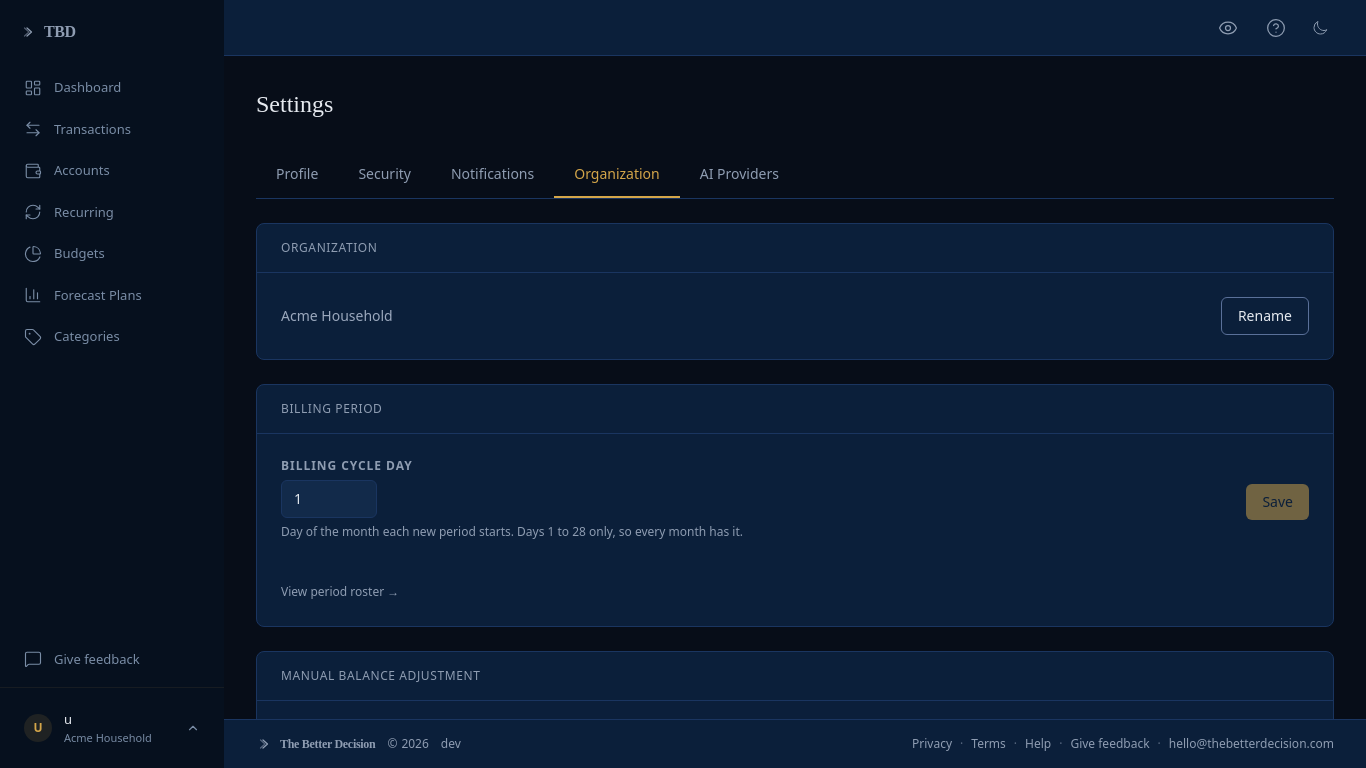
it: OrganizationSettingsPage — rename › renames org successfully and refreshes user
Open the edit form.
Click the button "Rename": (1265, 316) [1221,297,1309,335]
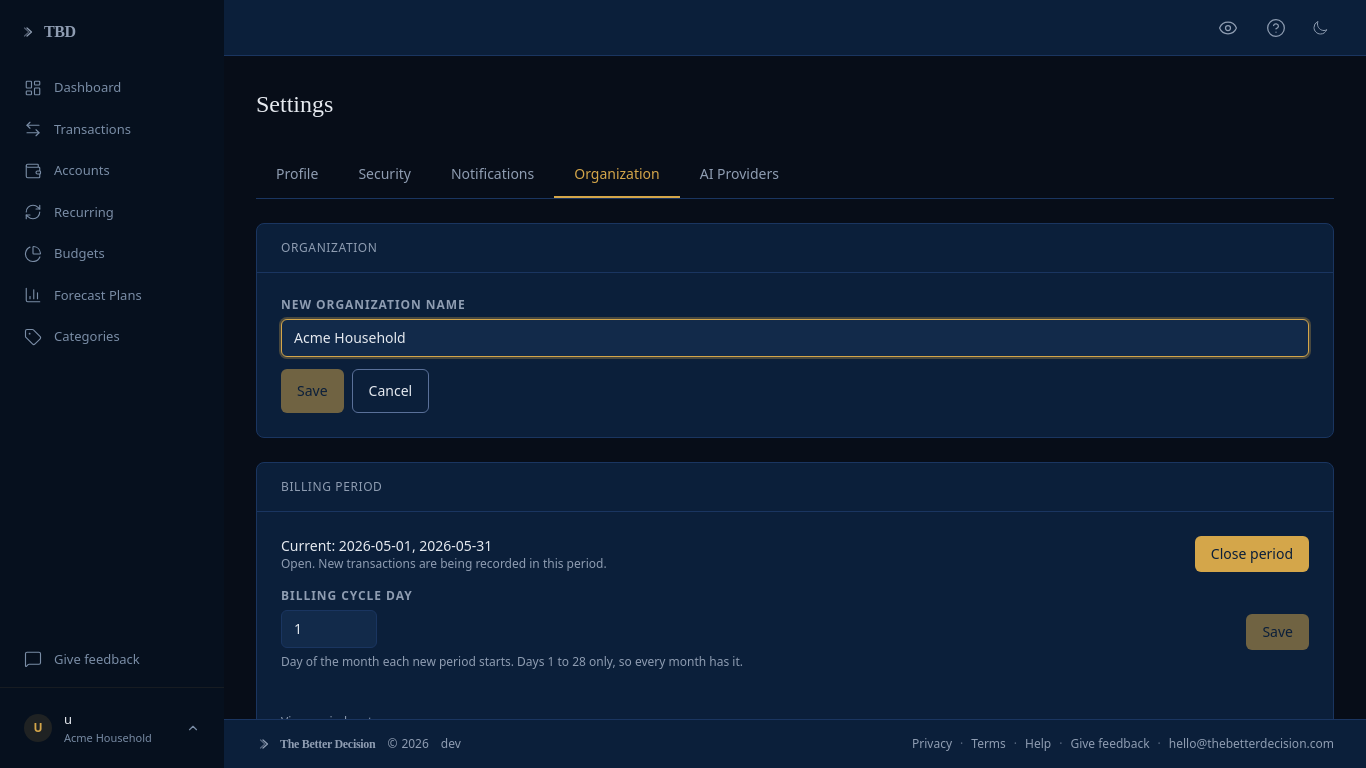
expect the field labelled "New organization name" holds "Acme Household": met
Type a new name and submit.
Replace the text in the field labelled "New organization name" with "Acme Inc": (795, 338) [281,319,1309,357]
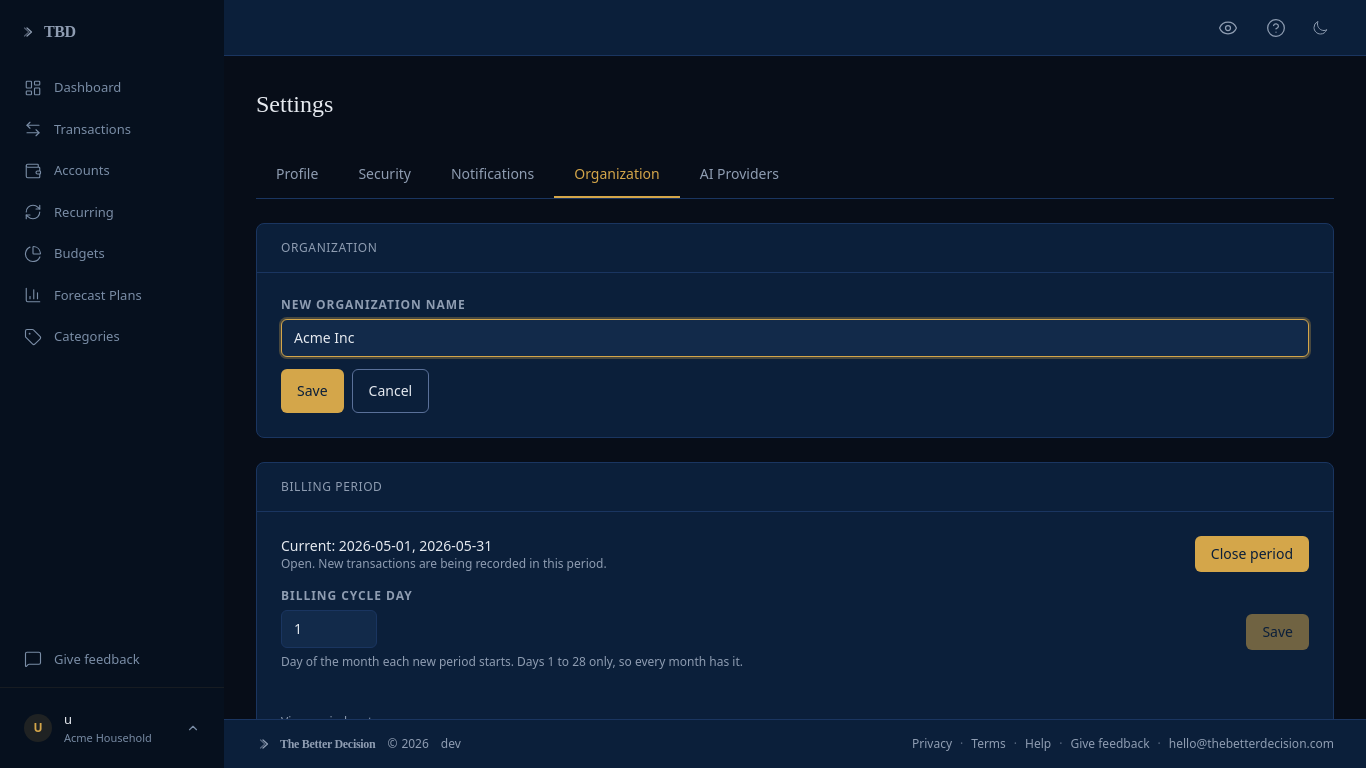
Click the button with aria-label "save organization name": (312, 391) [281,369,344,413]
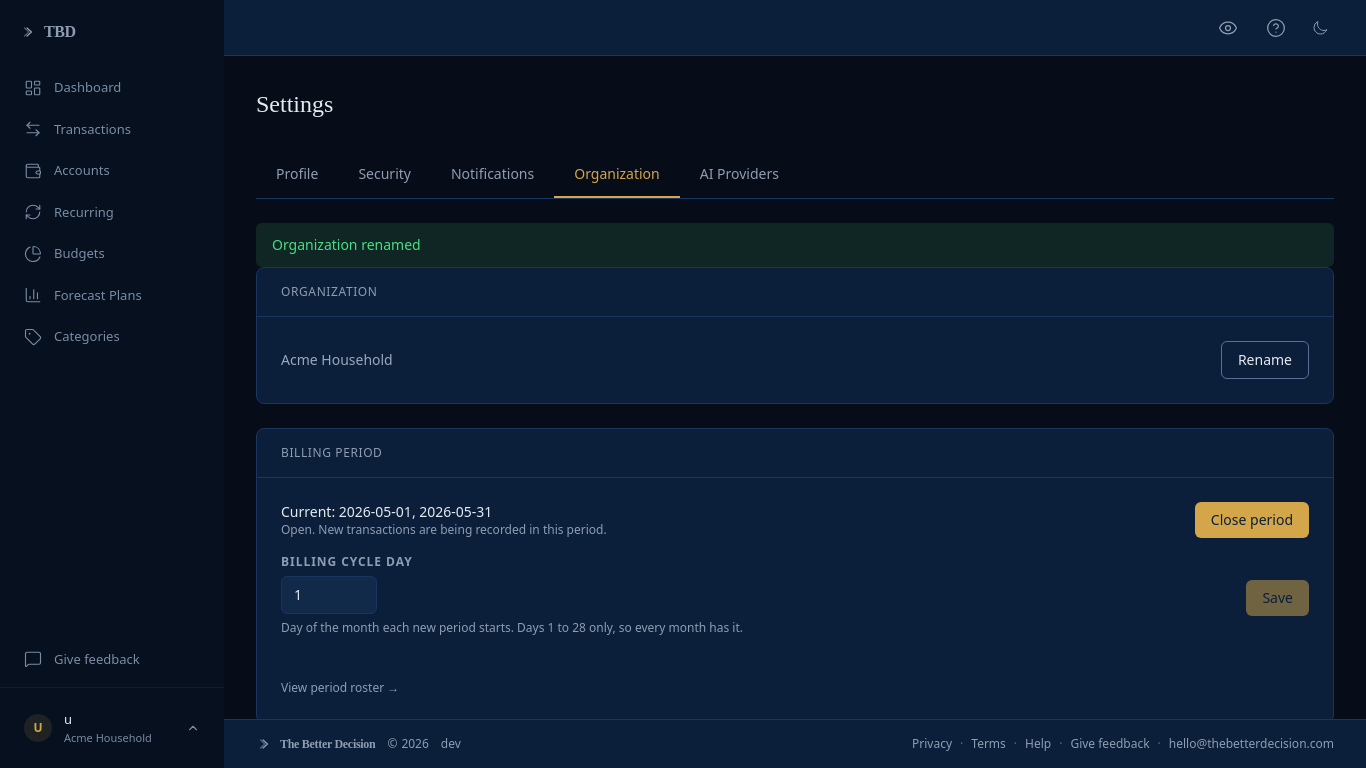
expect the text "Organization renamed" is shown: met, box [256,223,1334,267]
